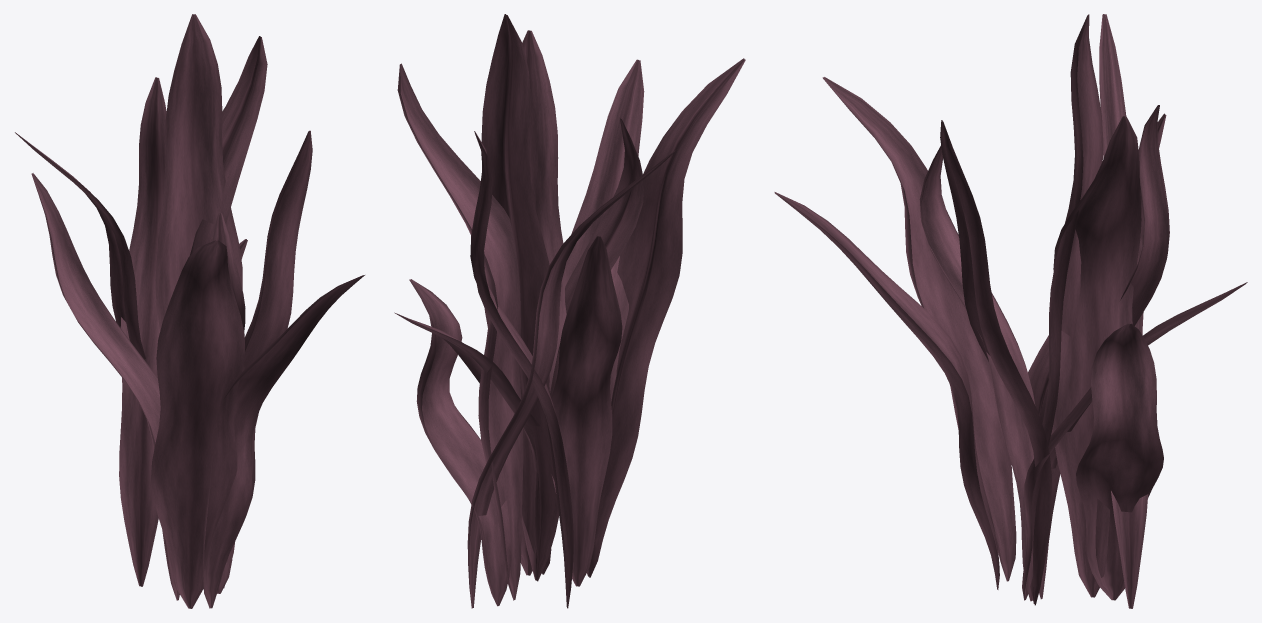
Rendered from seaweed_redalgae_c.glb.
The picture shows the model from 3 angles, left to right: view 1: azimuth 30°, elevation 25°; view 2: azimuth 150°, elevation 25°; view 3: azimuth 270°, elevation 25°; orthographic projection. The views are drawn at different scales.
Parts seen in each view (by area): view 1: world; view 2: world; view 3: world.
Boxes of the visible parts, x1,y1,x2,y2 form: world: (15, 14, 364, 608); world: (394, 14, 745, 608); world: (774, 14, 1247, 608).
Size of the model in its own units: 0.4657 by 0.97 by 0.7084.
1 material, 1 textured.
